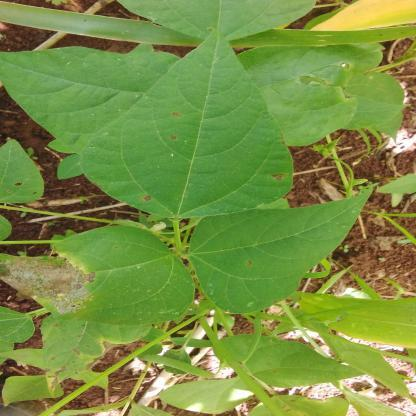Beans_Angular_LeafSpot: (83, 32, 301, 220), (191, 187, 378, 314), (2, 233, 188, 319), (228, 41, 379, 145), (36, 324, 101, 397)
